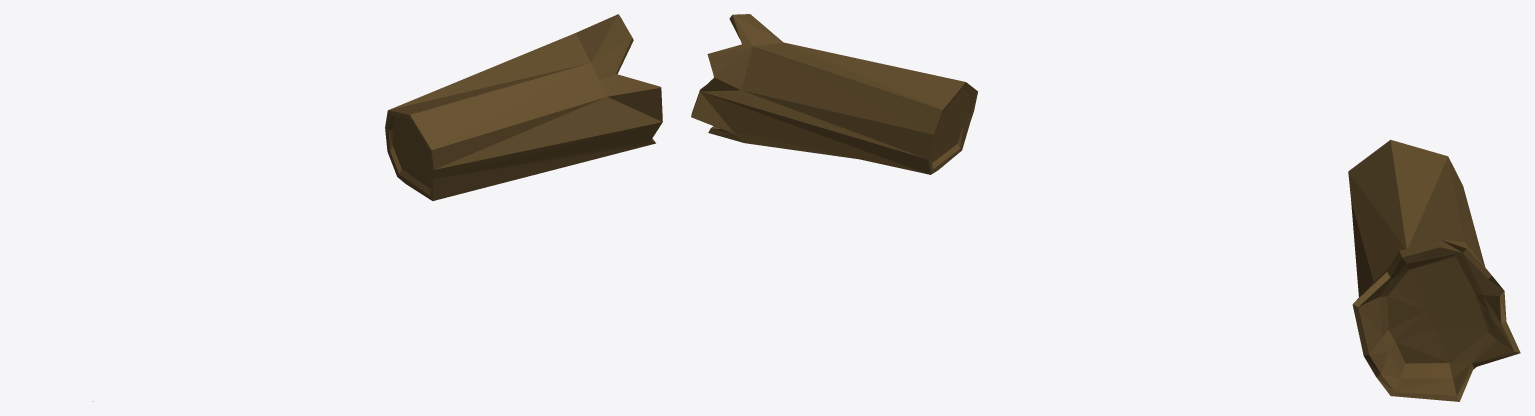
File: liegenderStamm kurz.fbx
3 views of the same model, side by side, from view 1: azimuth 30°, elevation 25°; view 2: azimuth 150°, elevation 25°; view 3: azimuth 270°, elevation 25° (orthographic). The views are drawn at different scales.
Visible parts, largest first — view 1: Stamm_1; view 2: Stamm_1; view 3: Stamm_1.
Boxes of the visible parts, bbox=[...] form: Stamm_1: bbox=[93, 14, 662, 401]; Stamm_1: bbox=[691, 14, 977, 174]; Stamm_1: bbox=[1348, 139, 1520, 401].
Size of the model in its own units: 1463 by 609 by 282.
